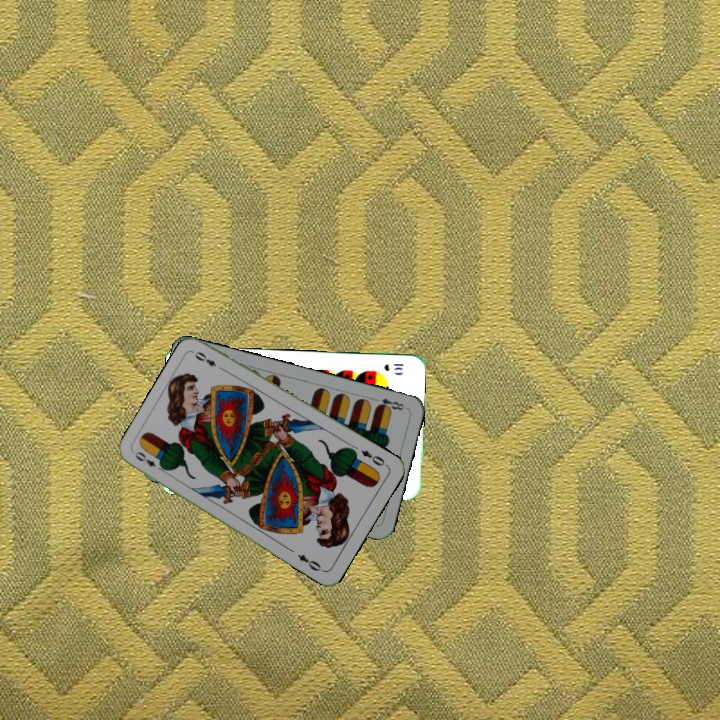E8: (369, 394, 407, 414)
EO: (131, 447, 167, 475), (357, 446, 390, 469)
S10: (380, 360, 406, 373)
